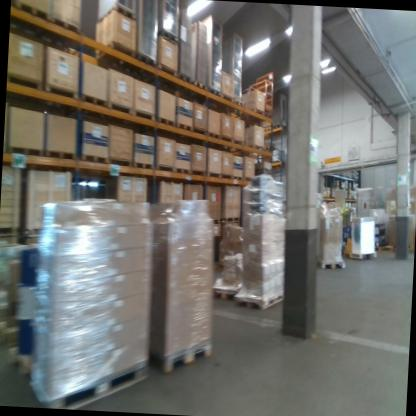pallet: (30, 352, 152, 408), (150, 335, 215, 383), (234, 286, 286, 313), (94, 37, 137, 69), (129, 49, 158, 83), (6, 344, 35, 377), (210, 278, 244, 303), (0, 311, 22, 346), (317, 256, 345, 273), (191, 76, 210, 101), (171, 74, 193, 94), (205, 82, 220, 108), (351, 247, 376, 262), (155, 27, 179, 42), (232, 96, 249, 117), (262, 108, 275, 123), (260, 144, 275, 152)
pallet_truck: (340, 208, 355, 259)
